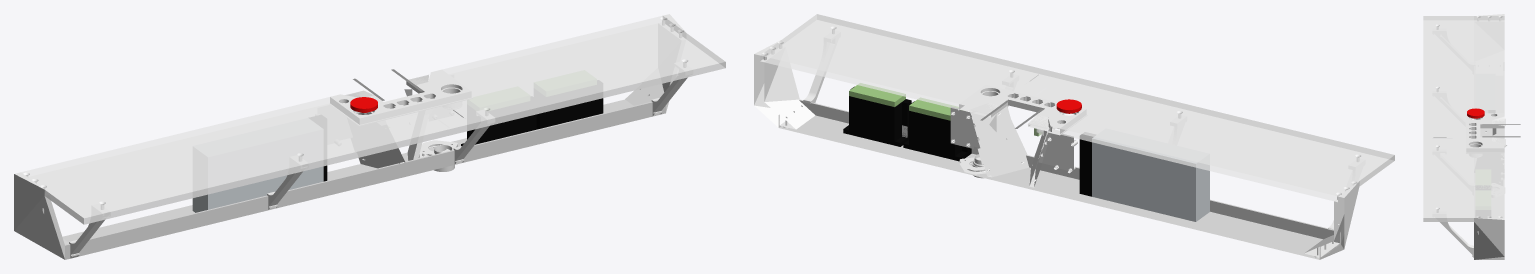
3 views of the same model, side by side, from view 1: azimuth 30°, elevation 25°; view 2: azimuth 150°, elevation 25°; view 3: azimuth 270°, elevation 25° (orthographic). The views are drawn at different scales.
Parts seen in each view (by area): view 1: mesh672_meshnode_672.001, mesh665_meshnode_665.001, mesh806_meshnode_806.001, mesh648_meshnode_648.001, mesh826_meshnode_826.001, mesh594_meshnode_594.001, mesh1607_meshnode_1607, mesh1785_meshnode_1785, mesh622_meshnode_622.001, mesh1787_meshnode_1787, mesh598_meshnode_598.001, mesh807_meshnode_807.001 (+3 smaller); view 2: mesh672_meshnode_672.001, mesh665_meshnode_665.001, mesh592_meshnode_592.001, mesh826_meshnode_826.001, mesh648_meshnode_648.001, mesh808_meshnode_808.001, mesh1310_meshnode_1310, mesh628_meshnode_628.001, mesh604_meshnode_604.001, mesh804_meshnode_804.001, mesh1607_meshnode_1607, mesh569_meshnode_569.001 (+10 smaller); view 3: mesh672_meshnode_672.001, mesh665_meshnode_665.001, mesh1607_meshnode_1607, mesh578_meshnode_578.001, mesh576_meshnode_576.001, mesh1349_meshnode_1349, mesh658_meshnode_658.001, mesh647_meshnode_647.001, mesh1881_meshnode_1881, mesh1324_meshnode_1324, mesh644_meshnode_644.001, mesh1788_meshnode_1788 (+3 smaller).
Boxes of the visible parts, x1=… form: mesh672_meshnode_672.001: x1=21, y1=15, x2=725, y2=218; mesh665_meshnode_665.001: x1=29, y1=24, x2=723, y2=223; mesh806_meshnode_806.001: x1=65, y1=102, x2=665, y2=259; mesh648_meshnode_648.001: x1=84, y1=62, x2=725, y2=224; mesh826_meshnode_826.001: x1=62, y1=99, x2=633, y2=242; mesh594_meshnode_594.001: x1=208, y1=166, x2=323, y2=209; mesh1607_meshnode_1607: x1=330, y1=69, x2=471, y2=118; mesh1785_meshnode_1785: x1=14, y1=196, x2=64, y2=259; mesh622_meshnode_622.001: x1=540, y1=98, x2=603, y2=128; mesh1787_meshnode_1787: x1=14, y1=174, x2=44, y2=230; mesh598_meshnode_598.001: x1=473, y1=114, x2=536, y2=144; mesh807_meshnode_807.001: x1=65, y1=101, x2=652, y2=245; mesh672_meshnode_672.001: x1=760, y1=14, x2=1394, y2=196; mesh665_meshnode_665.001: x1=761, y1=20, x2=1393, y2=201; mesh592_meshnode_592.001: x1=1092, y1=139, x2=1195, y2=221; mesh826_meshnode_826.001: x1=780, y1=115, x2=1322, y2=257; mesh648_meshnode_648.001: x1=817, y1=14, x2=1394, y2=159; mesh808_meshnode_808.001: x1=799, y1=100, x2=1333, y2=239; mesh1310_meshnode_1310: x1=972, y1=106, x2=1029, y2=177; mesh628_meshnode_628.001: x1=843, y1=96, x2=900, y2=146; mesh604_meshnode_604.001: x1=903, y1=110, x2=960, y2=161; mesh804_meshnode_804.001: x1=779, y1=126, x2=1319, y2=259; mesh1607_meshnode_1607: x1=959, y1=84, x2=1086, y2=128; mesh569_meshnode_569.001: x1=764, y1=61, x2=799, y2=101; mesh672_meshnode_672.001: x1=1423, y1=16, x2=1504, y2=217; mesh665_meshnode_665.001: x1=1424, y1=21, x2=1503, y2=221; mesh1607_meshnode_1607: x1=1466, y1=113, x2=1504, y2=148; mesh578_meshnode_578.001: x1=1474, y1=218, x2=1504, y2=256; mesh576_meshnode_576.001: x1=1474, y1=222, x2=1504, y2=259; mesh1349_meshnode_1349: x1=1480, y1=128, x2=1504, y2=138; mesh658_meshnode_658.001: x1=1423, y1=218, x2=1473, y2=221; mesh647_meshnode_647.001: x1=1424, y1=16, x2=1484, y2=19; mesh1881_meshnode_1881: x1=1440, y1=222, x2=1473, y2=257; mesh1324_meshnode_1324: x1=1466, y1=148, x2=1504, y2=152; mesh644_meshnode_644.001: x1=1467, y1=108, x2=1484, y2=115; mesh1788_meshnode_1788: x1=1474, y1=16, x2=1504, y2=19.
Bounding box in the file's own units: 1.22 × 0.1631 × 0.2434.
